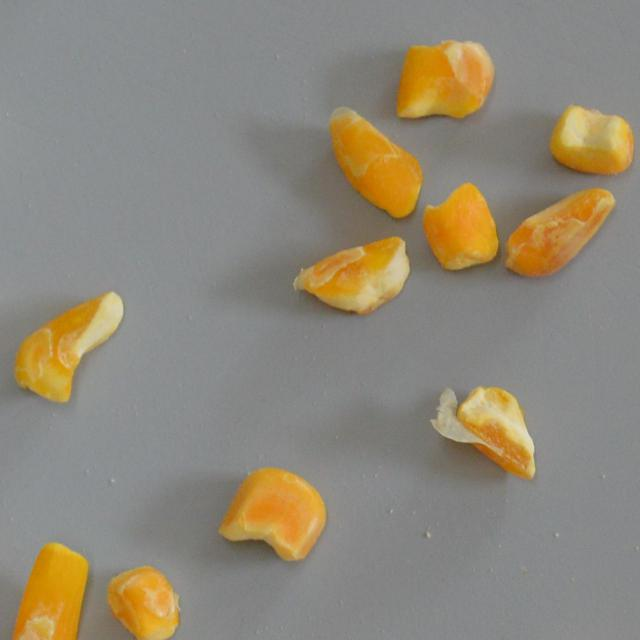dañado: (12, 286, 126, 408), (429, 377, 544, 484), (322, 103, 424, 221), (502, 184, 619, 280), (291, 230, 412, 320), (390, 30, 496, 124), (2, 536, 90, 640), (421, 176, 500, 274), (102, 561, 184, 640)
no_canjicado: (214, 465, 328, 565)
no_desgerminado: (546, 100, 638, 177)
